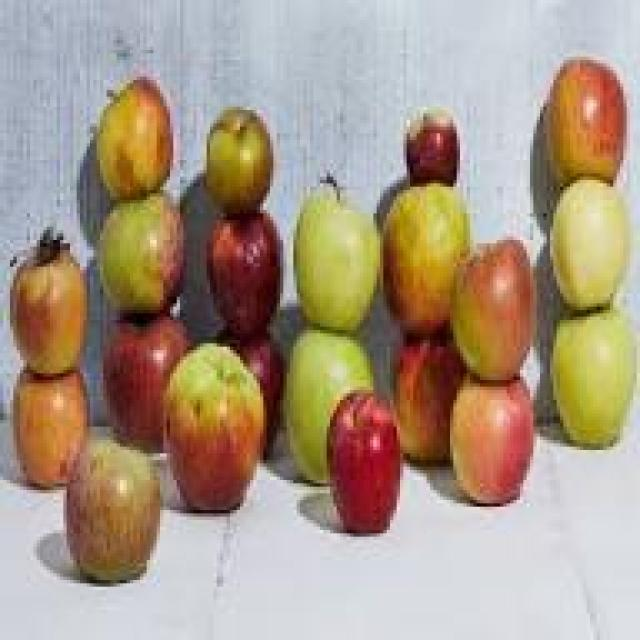apple: (270, 320, 377, 473), (290, 167, 380, 343), (450, 360, 547, 520), (90, 276, 180, 446), (167, 356, 260, 516), (370, 186, 473, 326), (450, 240, 547, 377), (540, 57, 630, 200), (87, 190, 180, 327), (390, 327, 477, 470), (326, 387, 406, 540), (550, 316, 637, 446), (550, 184, 633, 304), (13, 230, 90, 353), (197, 104, 280, 214), (17, 364, 86, 484), (396, 103, 466, 197)
